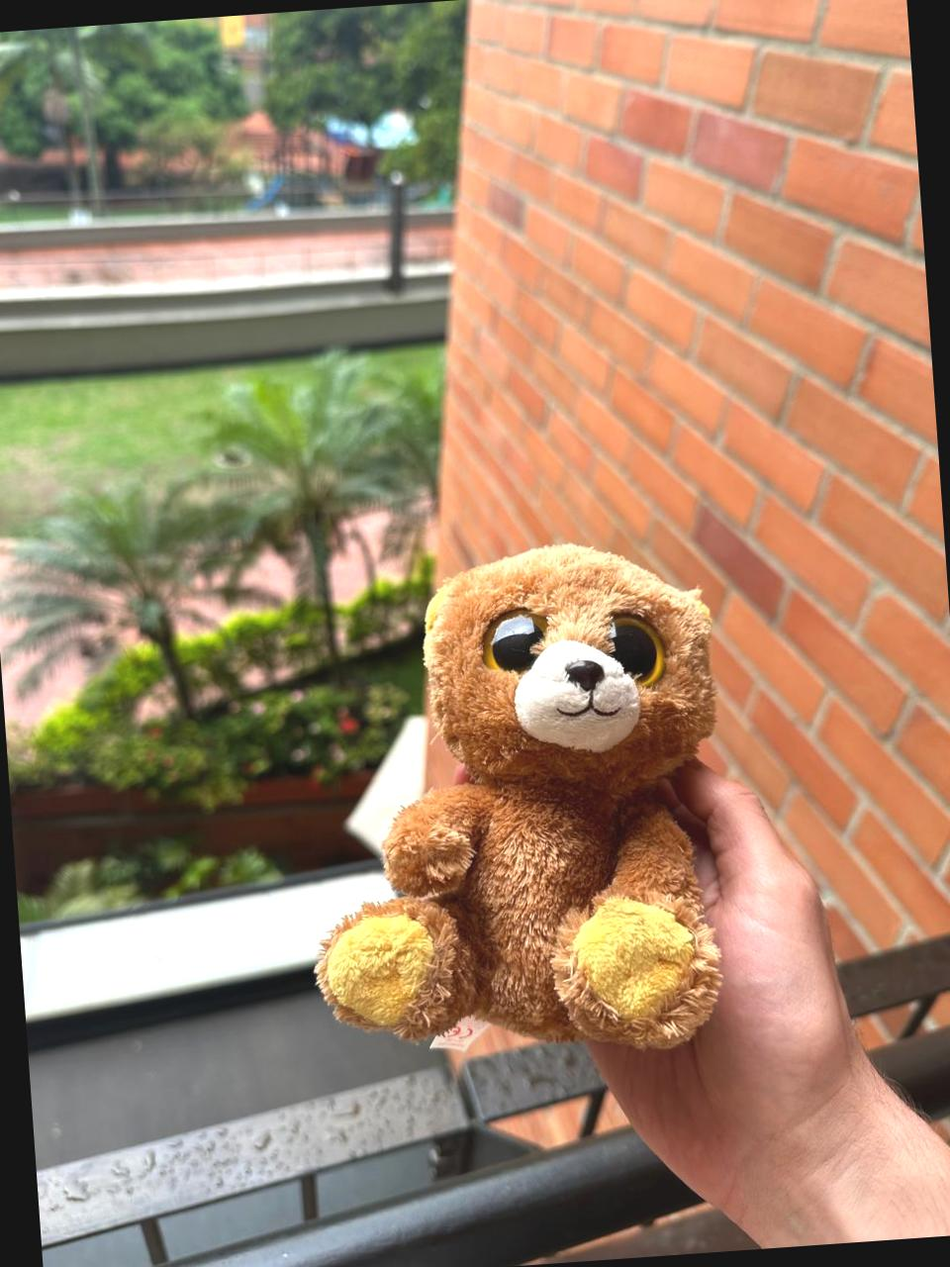peluche_sebastian: (284, 528, 745, 1051)
